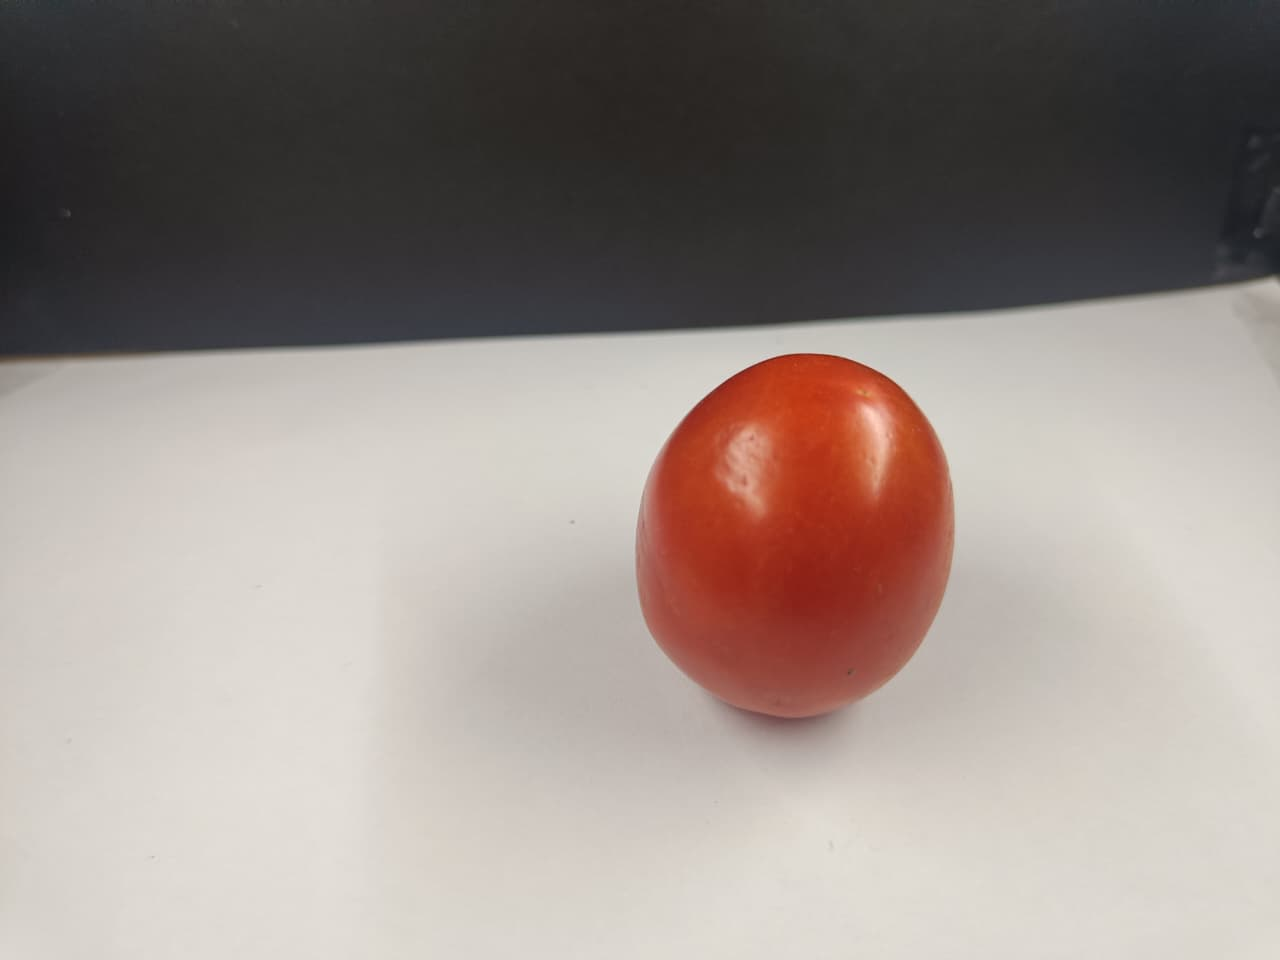ripe: (618, 328, 972, 741)
